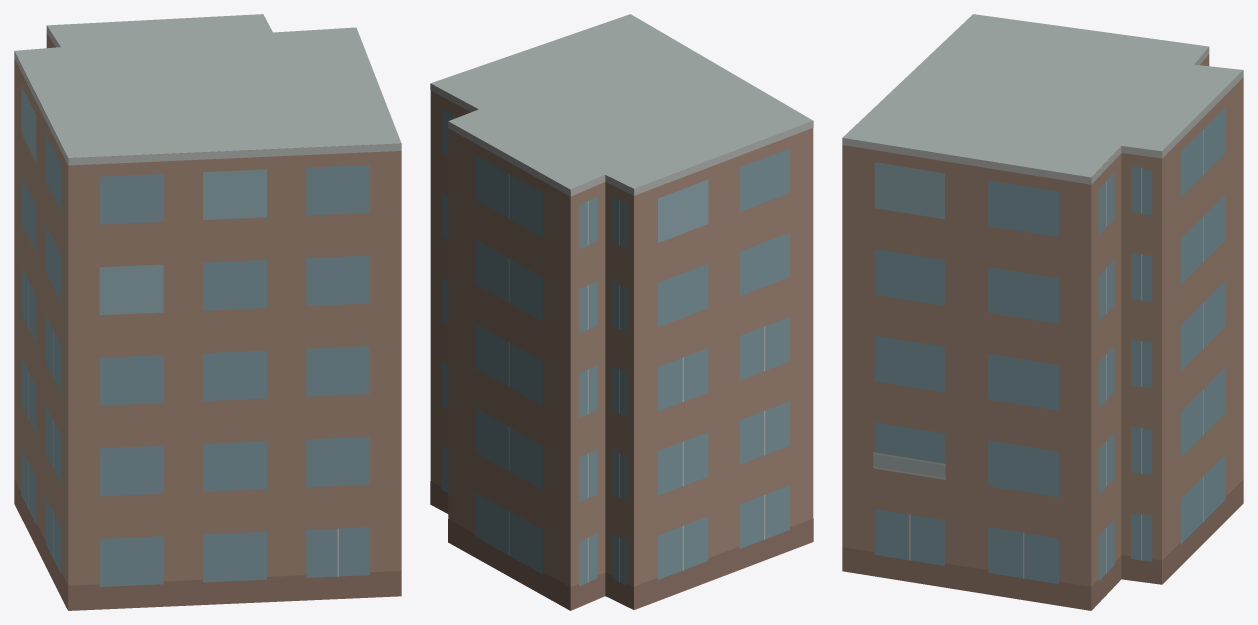
Rendered from survey-upis-32498461.glb.
3 views of the same model, side by side, from view 1: azimuth 30°, elevation 25°; view 2: azimuth 150°, elevation 25°; view 3: azimuth 270°, elevation 25° (orthographic). The views are drawn at different scales.
Visible parts, largest first — view 1: survey-upis-32498461.tmp; view 2: survey-upis-32498461.tmp; view 3: survey-upis-32498461.tmp.
Boxes of the visible parts, <box> form: survey-upis-32498461.tmp: <box>14,14,401,610</box>; survey-upis-32498461.tmp: <box>430,14,813,610</box>; survey-upis-32498461.tmp: <box>842,14,1243,610</box>.
Size of the model in its own units: 11.9 by 14.7 by 12.35.
